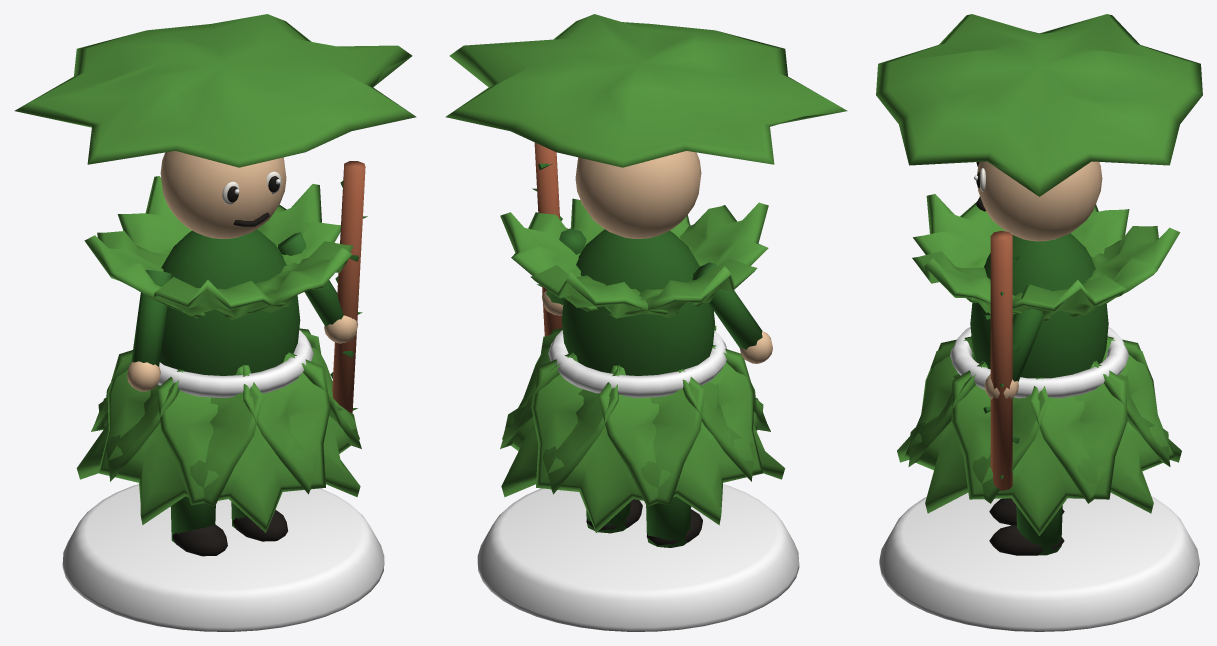
The model's file is nalcaman-9rtSmWv3.glb.
The picture shows the model from 3 angles, left to right: view 1: azimuth 30°, elevation 25°; view 2: azimuth 150°, elevation 25°; view 3: azimuth 270°, elevation 25°; orthographic projection.
Visible parts, largest first — view 1: Body, Tint; view 2: Body, Tint; view 3: Body, Tint.
Part boxes in pixels (x1=…): Body: x1=14, y1=14, x2=416, y2=556; Tint: x1=62, y1=330, x2=384, y2=631; Body: x1=445, y1=14, x2=847, y2=547; Tint: x1=477, y1=330, x2=799, y2=631; Body: x1=876, y1=14, x2=1202, y2=555; Tint: x1=879, y1=327, x2=1199, y2=631.
Size of the model in its own units: 1.32 by 1.77 by 1.04.
Materials: 2 (2 with a texture image).
